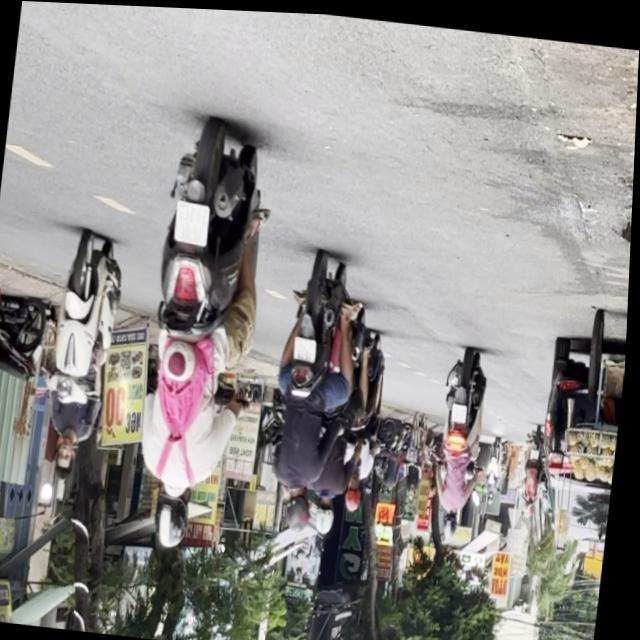helmet: (156, 484, 196, 550), (285, 487, 315, 530), (316, 493, 341, 533)
licenseplate: (125, 110, 283, 562), (261, 245, 372, 534), (37, 226, 131, 480)
motorcyclist: (56, 433, 80, 474)
nohelmet: (174, 201, 211, 244), (294, 334, 319, 360)
